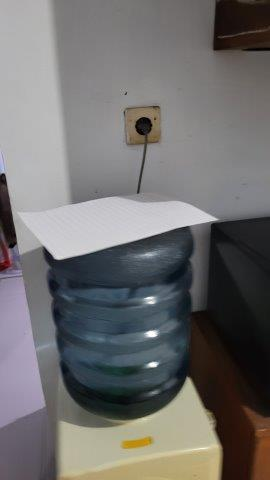kertas: (13, 187, 216, 256)
